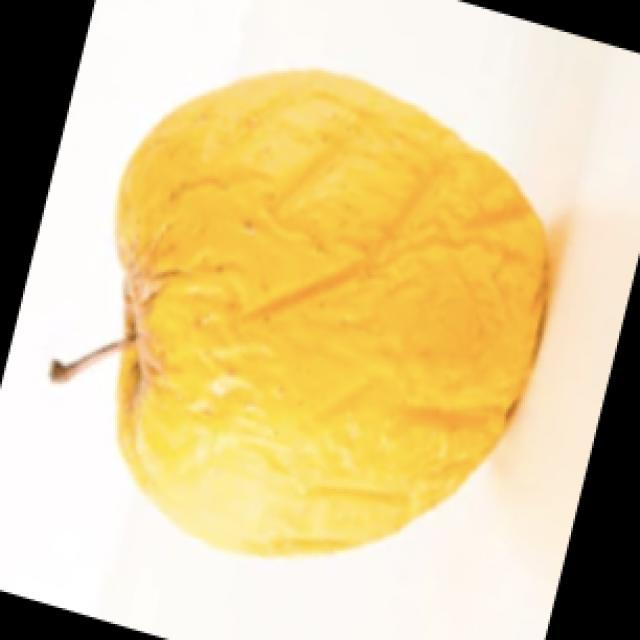Rotten: (115, 85, 543, 540)
